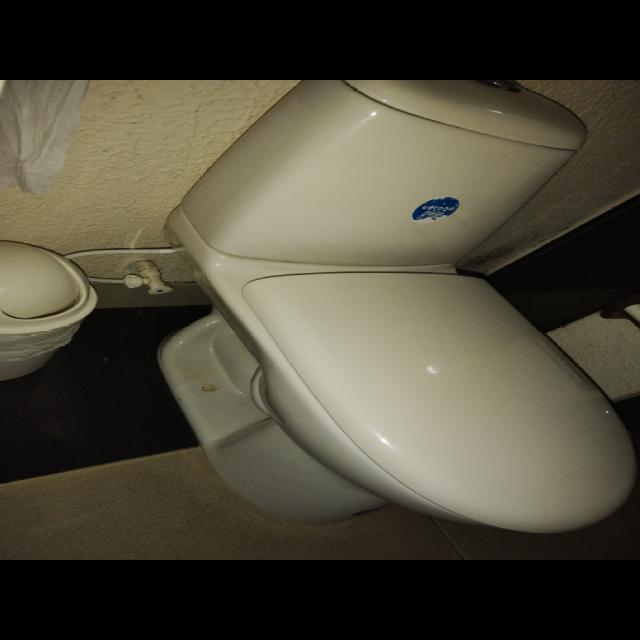toilet: (156, 78, 636, 533)
